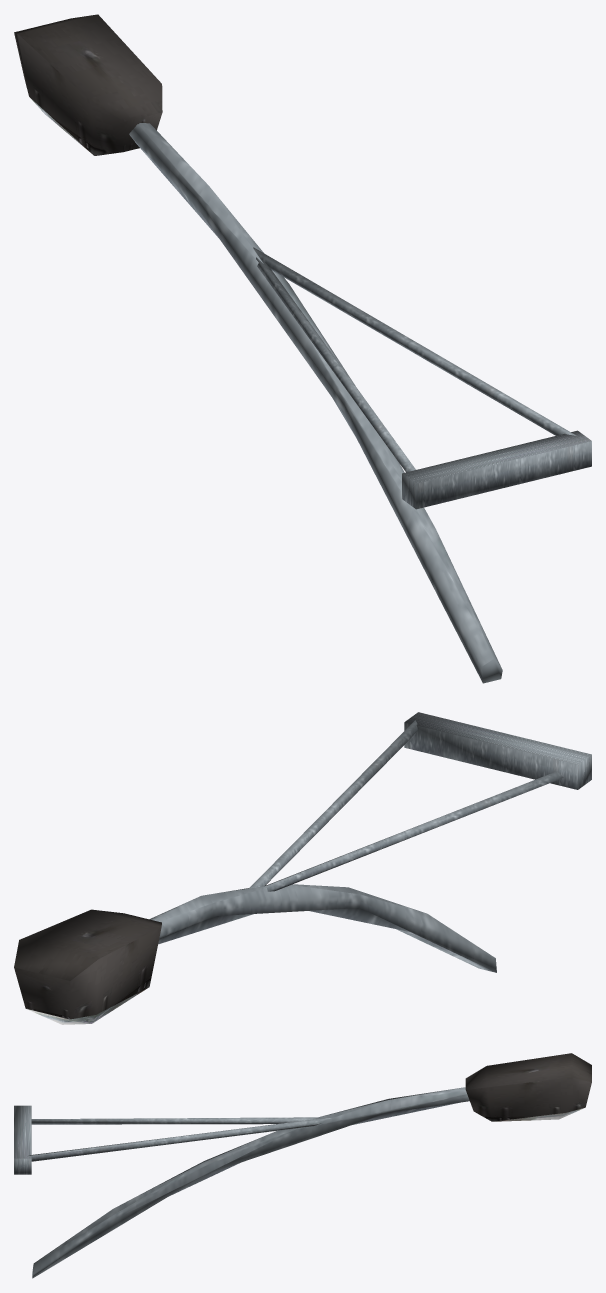
The model's file is streetSconce_2.fbx.
3 views of the same model, one above another, from view 1: azimuth 30°, elevation 25°; view 2: azimuth 150°, elevation 25°; view 3: azimuth 270°, elevation 25° (orthographic). The views are drawn at different scales.
Parts seen in each view (by area): view 1: streetlightA0; view 2: streetlightA0, lens0; view 3: streetlightA0, lens0.
Part boxes in pixels (x1,y1,x2,y2): streetlightA0: (14, 14, 591, 683); streetlightA0: (14, 712, 591, 1019); lens0: (27, 988, 147, 1024); streetlightA0: (14, 1053, 591, 1278); lens0: (495, 1108, 583, 1121).
Size of the model in its own units: 0.759 by 1.4 by 3.48.
